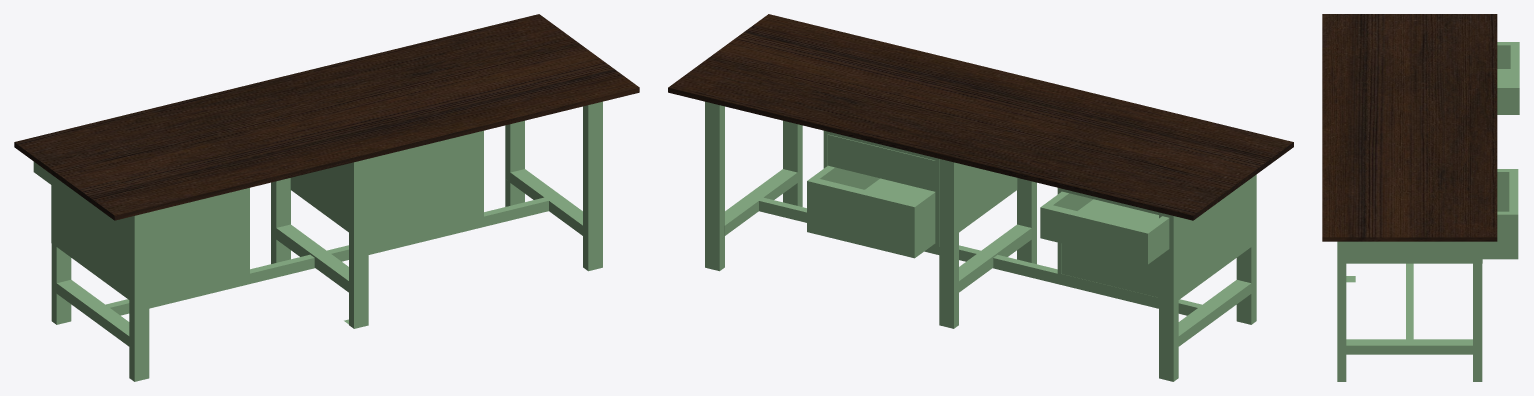
The model's file is Meja Sektor Bubut.fbx.
3 renders of one model, left to right at view 1: azimuth 30°, elevation 25°; view 2: azimuth 150°, elevation 25°; view 3: azimuth 270°, elevation 25°, orthographic. The views are drawn at different scales.
Visible parts, largest first — view 1: Cube.001, Cube, Cube.004, Cube.007; view 2: Cube.001, Cube, Cube.003, Cube.004, Cube.006, Cube.005, Cube.002, Cube.007; view 3: Cube.001, Cube, Cube.007, Cube.003, Cube.006.
Part boxes in pixels (left/top/right/bottom): Cube.001: left=14, top=14, right=639, bottom=220; Cube: left=51, top=101, right=602, bottom=381; Cube.004: left=51, top=174, right=249, bottom=299; Cube.007: left=290, top=130, right=483, bottom=246; Cube.001: left=668, top=14, right=1293, bottom=220; Cube: left=705, top=101, right=1256, bottom=381; Cube.003: left=807, top=165, right=935, bottom=258; Cube.004: left=1057, top=178, right=1251, bottom=303; Cube.006: left=1040, top=191, right=1169, bottom=264; Cube.005: left=1061, top=243, right=1169, bottom=299; Cube.002: left=827, top=134, right=935, bottom=191; Cube.007: left=823, top=130, right=1017, bottom=246; Cube.001: left=1322, top=14, right=1497, bottom=241; Cube: left=1337, top=241, right=1482, bottom=381; Cube.007: left=1346, top=241, right=1482, bottom=263; Cube.003: left=1482, top=169, right=1518, bottom=259; Cube.006: left=1497, top=42, right=1519, bottom=114.
Bounding box in the file's own units: 2624 × 860 × 981.
Materials: 8 (1 with a texture image).
